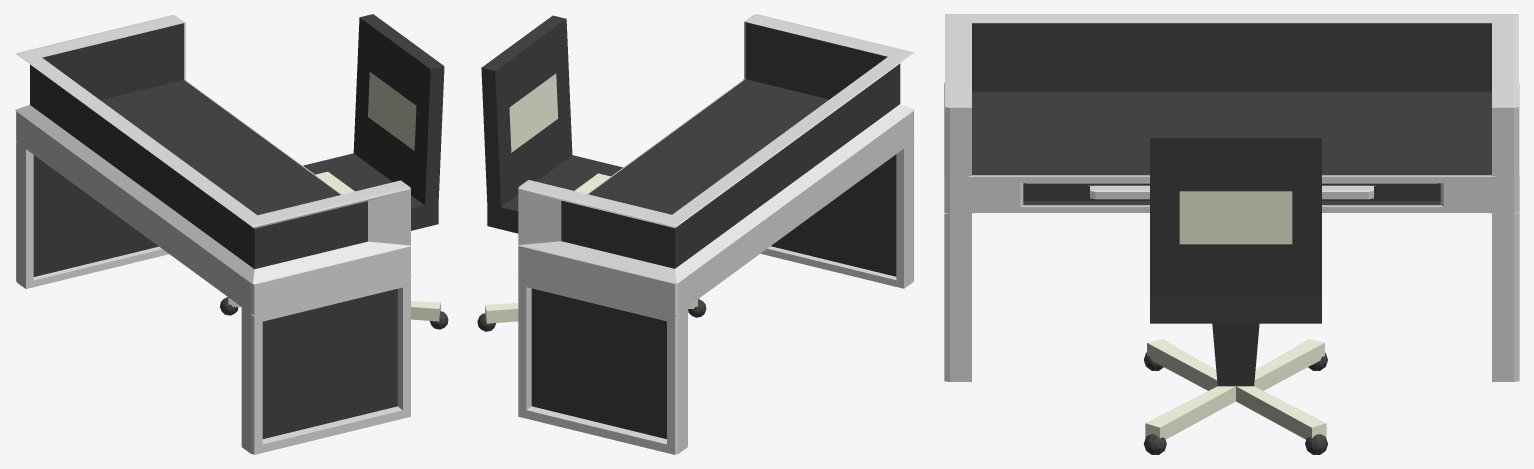
Rendered from table&chair.fbx.
The picture shows the model from 3 angles, left to right: view 1: azimuth 30°, elevation 25°; view 2: azimuth 150°, elevation 25°; view 3: azimuth 270°, elevation 25°; orthographic projection. The views are drawn at different scales.
Visible parts, largest first — view 1: Cube, Cube.001; view 2: Cube, Cube.001; view 3: Cube, Cube.001.
Boxes of the visible parts, <box> form: Cube: <box>15,15,411,454</box>; Cube.001: <box>220,14,448,329</box>; Cube: <box>517,14,914,454</box>; Cube.001: <box>477,15,706,331</box>; Cube: <box>944,14,1519,381</box>; Cube.001: <box>1144,130,1327,454</box>.
Size of the model in its own units: 353 by 316 by 517.
